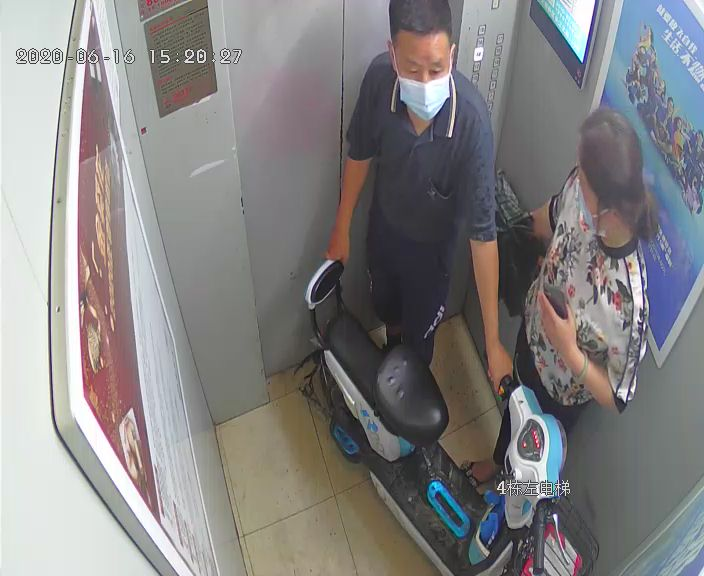Electric-bicycle: (301, 256, 600, 576)
